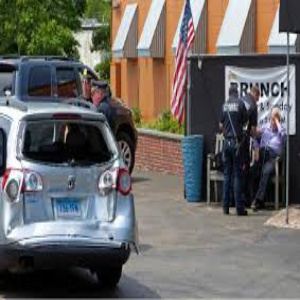bumper: (5, 240, 58, 275)
tail_lights: (1, 168, 48, 201)
